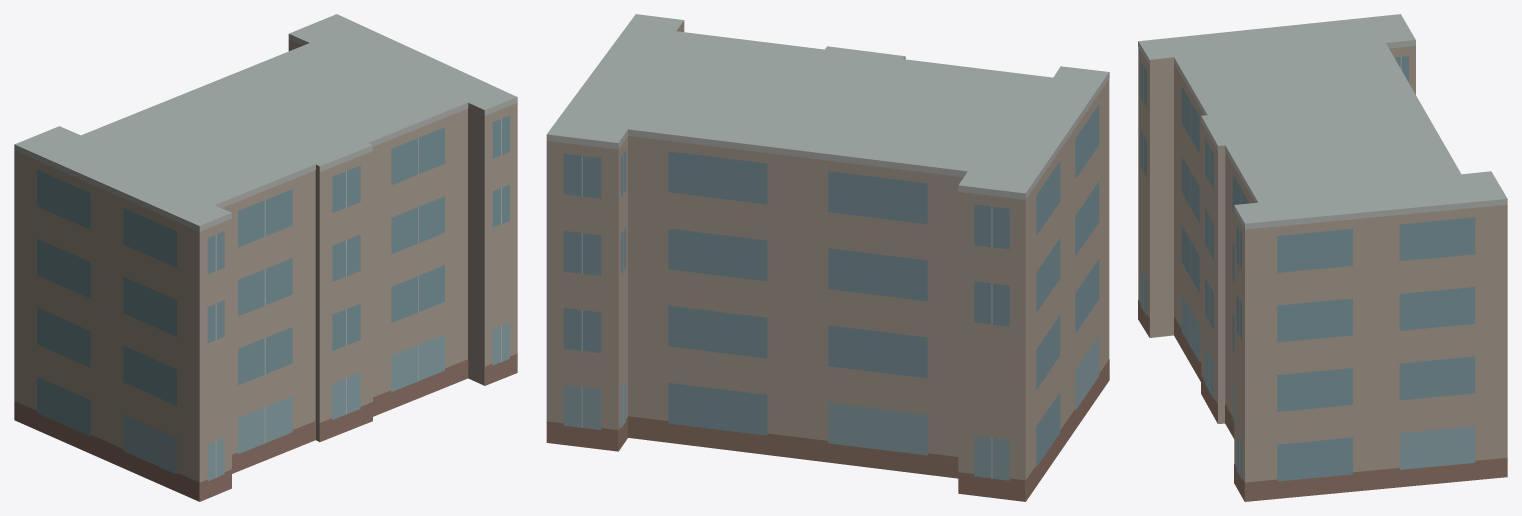
File: survey-upis-32582347.glb
3 renders of one model, left to right at view 1: azimuth 30°, elevation 25°; view 2: azimuth 150°, elevation 25°; view 3: azimuth 270°, elevation 25°, orthographic. The views are drawn at different scales.
Parts seen in each view (by area): view 1: survey-upis-32582347.tmp; view 2: survey-upis-32582347.tmp; view 3: survey-upis-32582347.tmp.
Boxes of the visible parts, x1=… form: survey-upis-32582347.tmp: x1=14, y1=14, x2=517, y2=501; survey-upis-32582347.tmp: x1=546, y1=14, x2=1109, y2=501; survey-upis-32582347.tmp: x1=1138, y1=14, x2=1507, y2=501.
Bounding box in the file's own units: 18.76 × 11.6 × 13.97.
